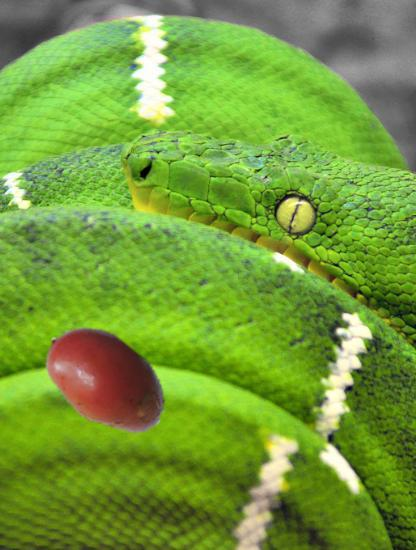Potato: (37, 314, 173, 450)
